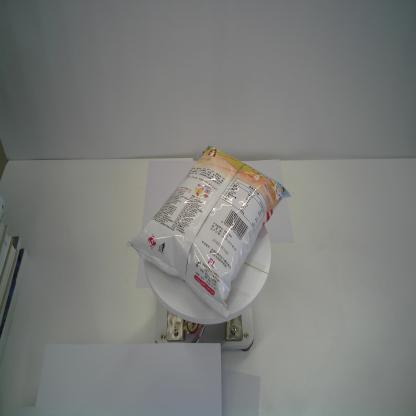Puffed Food: (127, 144, 292, 318)
